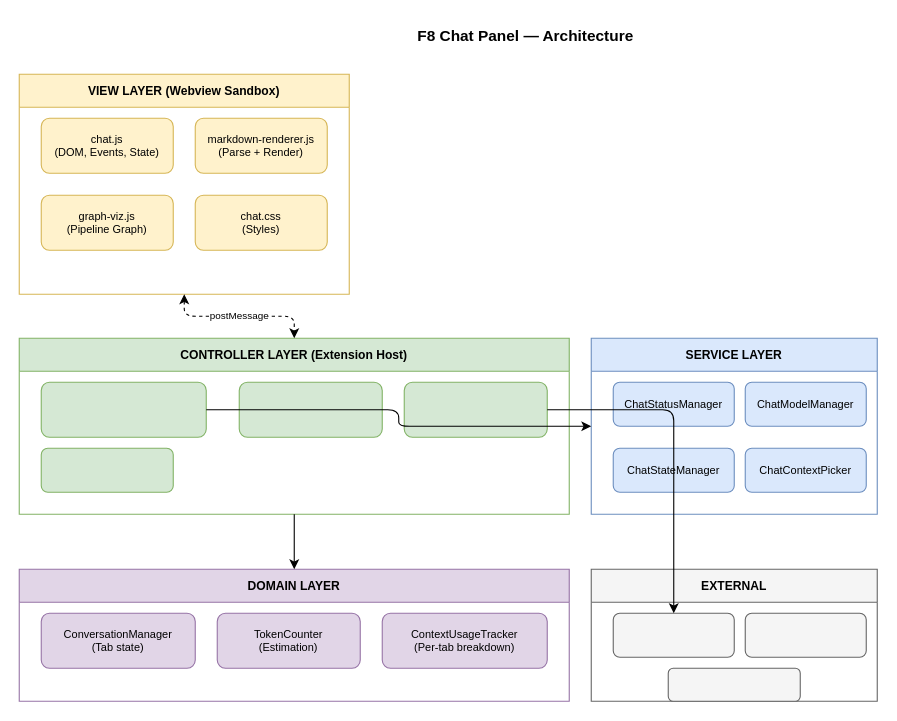
This 897x721 diagram has some shape labels left out. The centre of each missing label's shape, as x and y in pixels:
ChatHtmlBuilder: the point at 106,469
ChatPanelProvider (WebviewViewProvider): the point at 123,409
LangGraphEngine: the point at 673,634
McpServerManager: the point at 805,634
MessageHandler (Dispatcher): the point at 310,409
MessageRouting (Pure Functions): the point at 475,409
VS Code APIs: the point at 733,684
